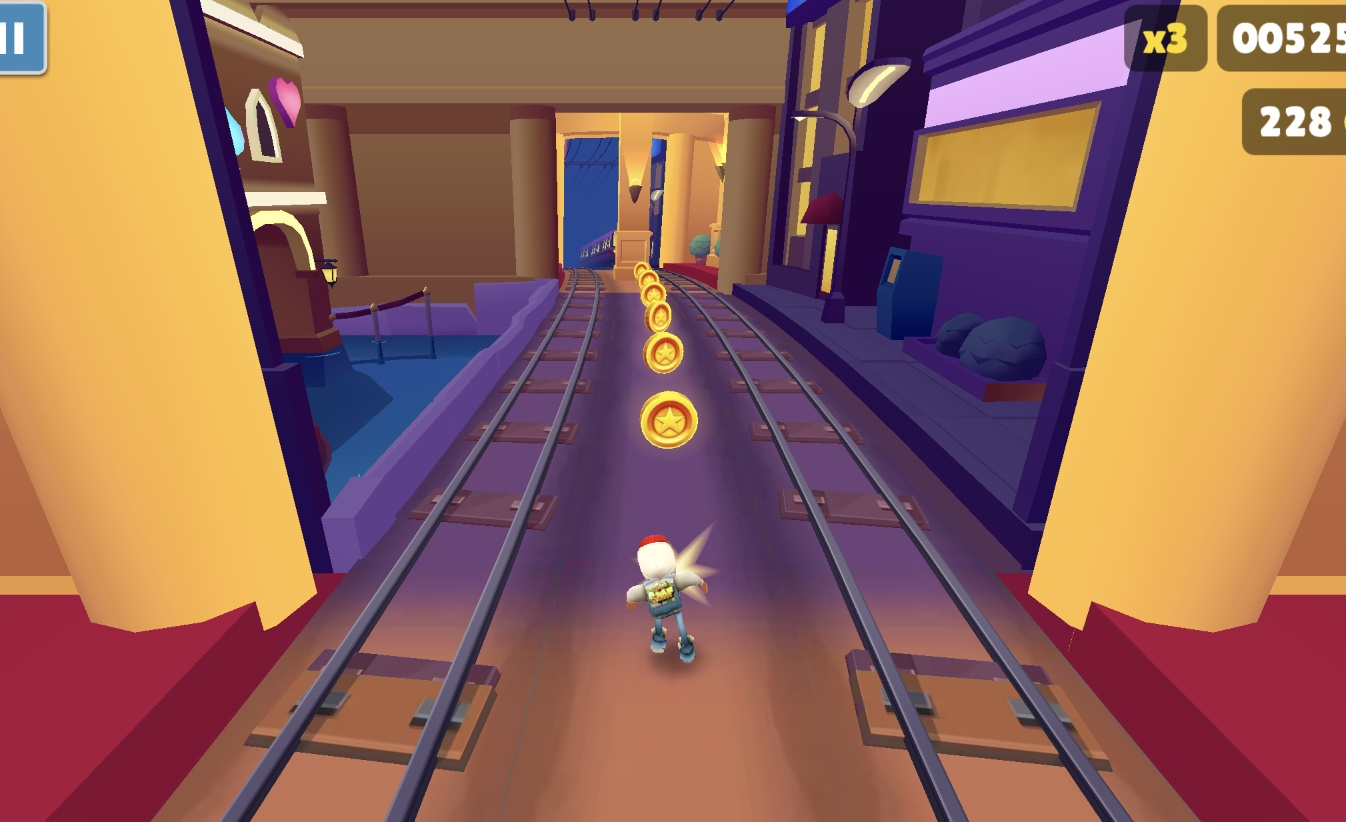pillar: (616, 118, 660, 278)
